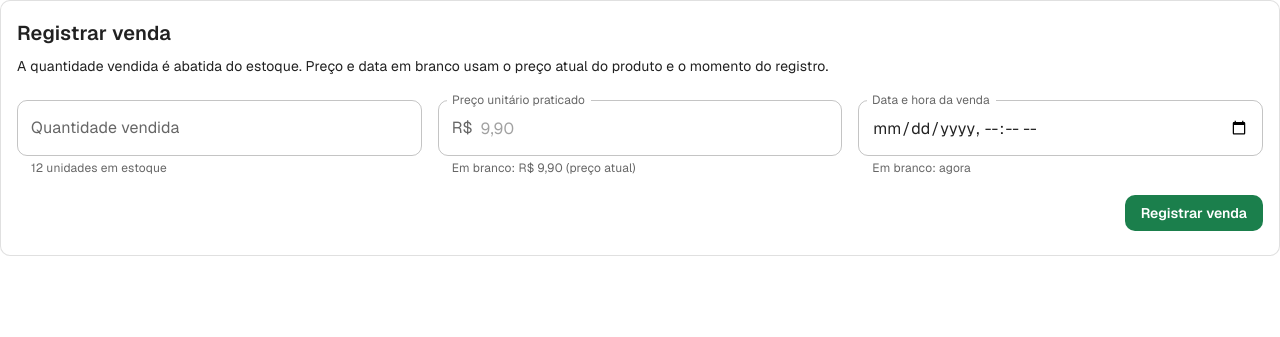
it: RegisterSaleForm › registers a sale with only the quantity and reports the deducted stock
The width and height of the screenshot is (1280, 337).
Type "3" into the number field labelled "Quantidade vendida".
click(219, 128); type("3")  # box [17,100,422,156]
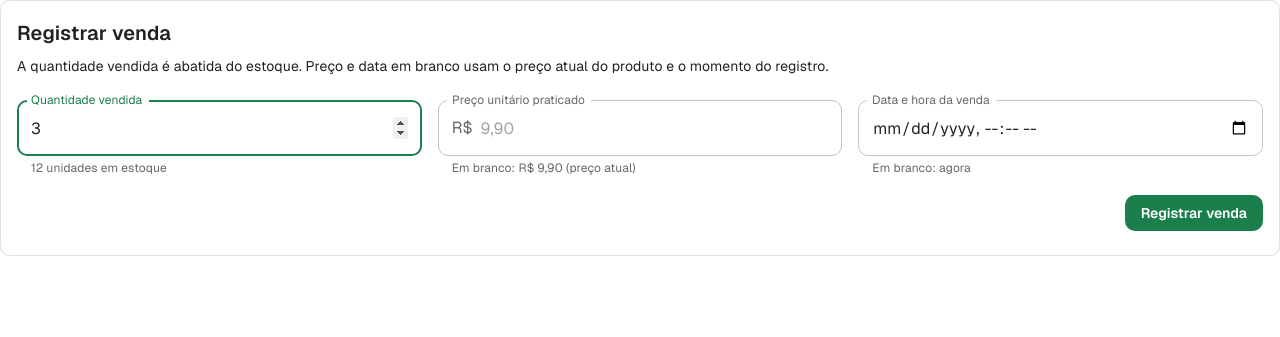
Click the button "Registrar venda".
click(1194, 213)  # box [1125,195,1263,231]
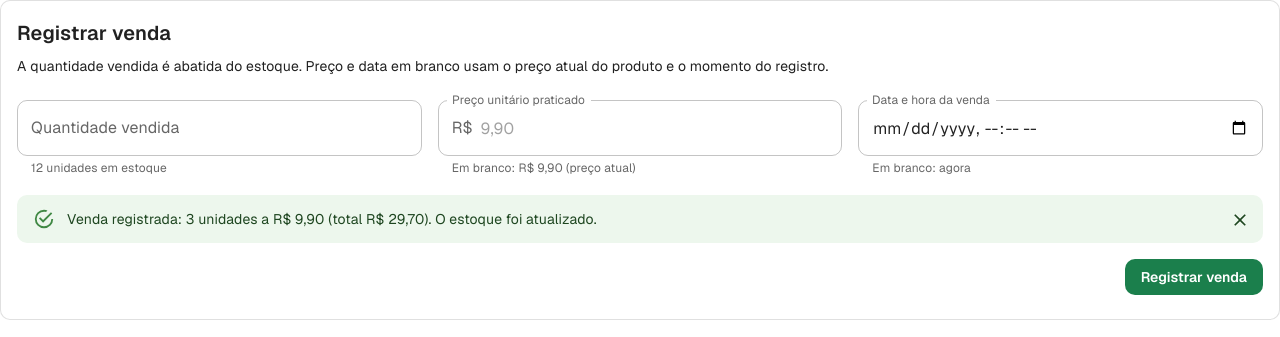
Check: the text "Venda registrada: 3 unidades a R$" shows "O estoque foi atualizado.", box [67,210,597,228]
Check: the number field labelled "Quantidade vendida" is not empty, box [17,100,422,156]
